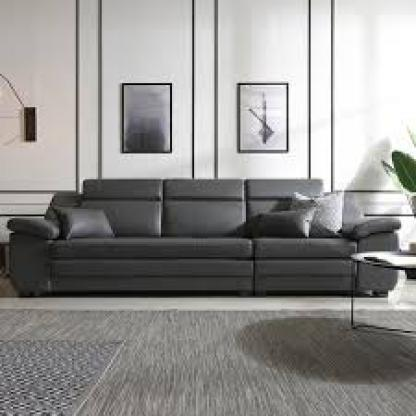sofa: (6, 176, 401, 309)
